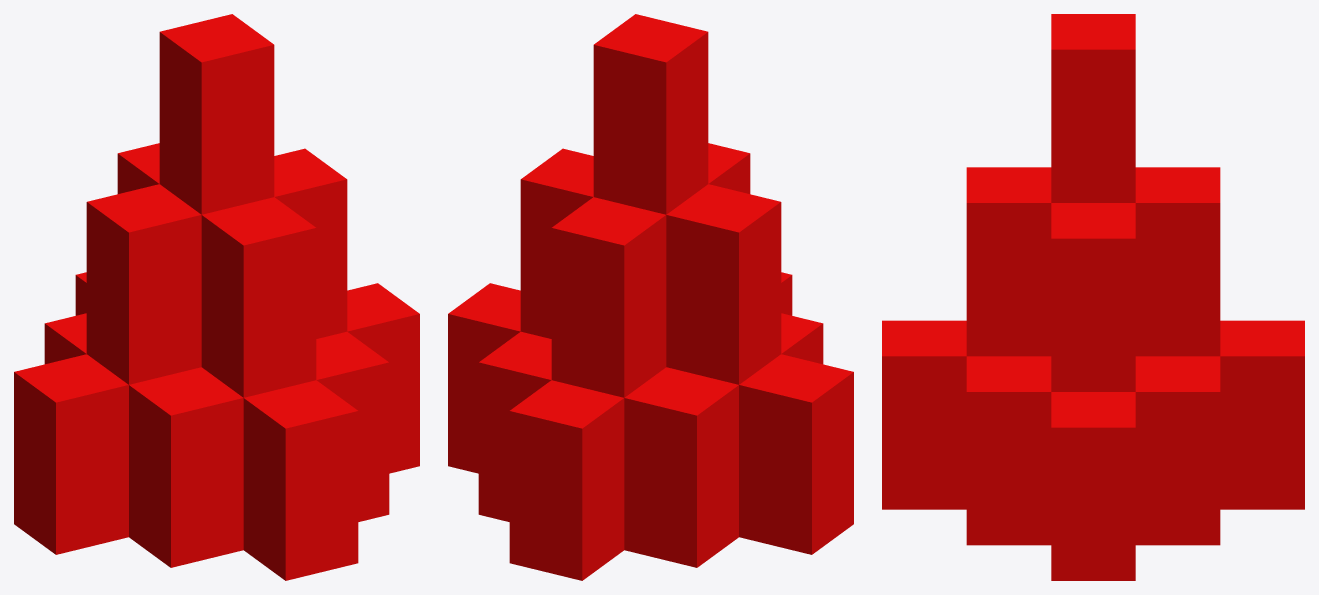
File: HandNeedleRight.obj
3 views of the same model, side by side, from view 1: azimuth 30°, elevation 25°; view 2: azimuth 150°, elevation 25°; view 3: azimuth 270°, elevation 25° (orthographic).
Size of the model in its own units: 5 by 6 by 5.
1 material, 1 textured.
